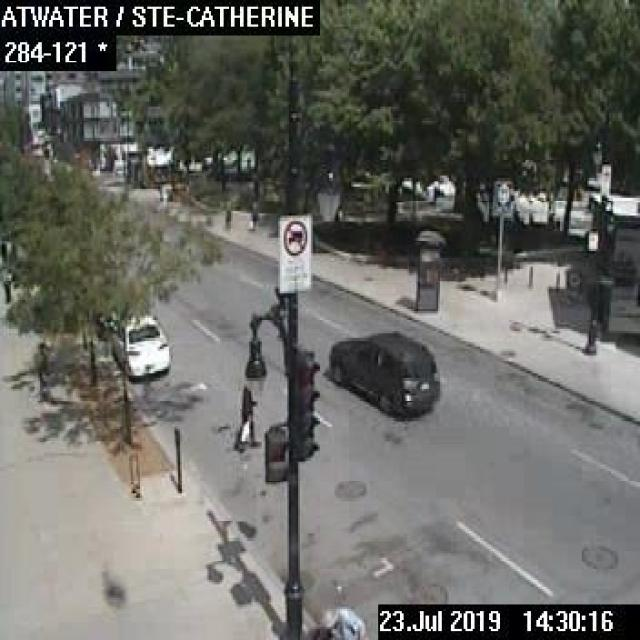pedestrian: (233, 378, 262, 449), (33, 340, 49, 407)
vehicle: (325, 330, 442, 416), (110, 312, 168, 378)
